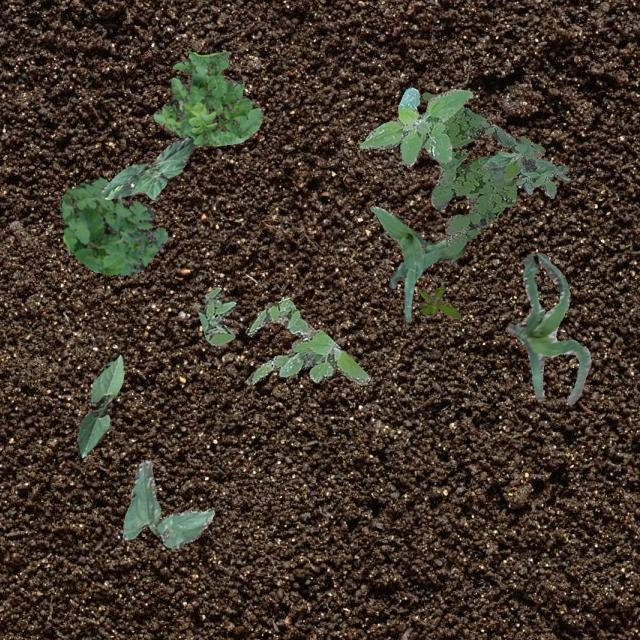crop: (506, 252, 590, 403), (368, 205, 464, 322), (122, 458, 214, 548), (100, 134, 194, 198), (76, 354, 122, 456)
weed: (420, 90, 516, 254), (244, 296, 370, 384), (59, 176, 168, 274), (152, 51, 262, 146), (358, 86, 472, 166), (478, 120, 568, 198), (197, 286, 234, 346), (418, 284, 459, 318)
